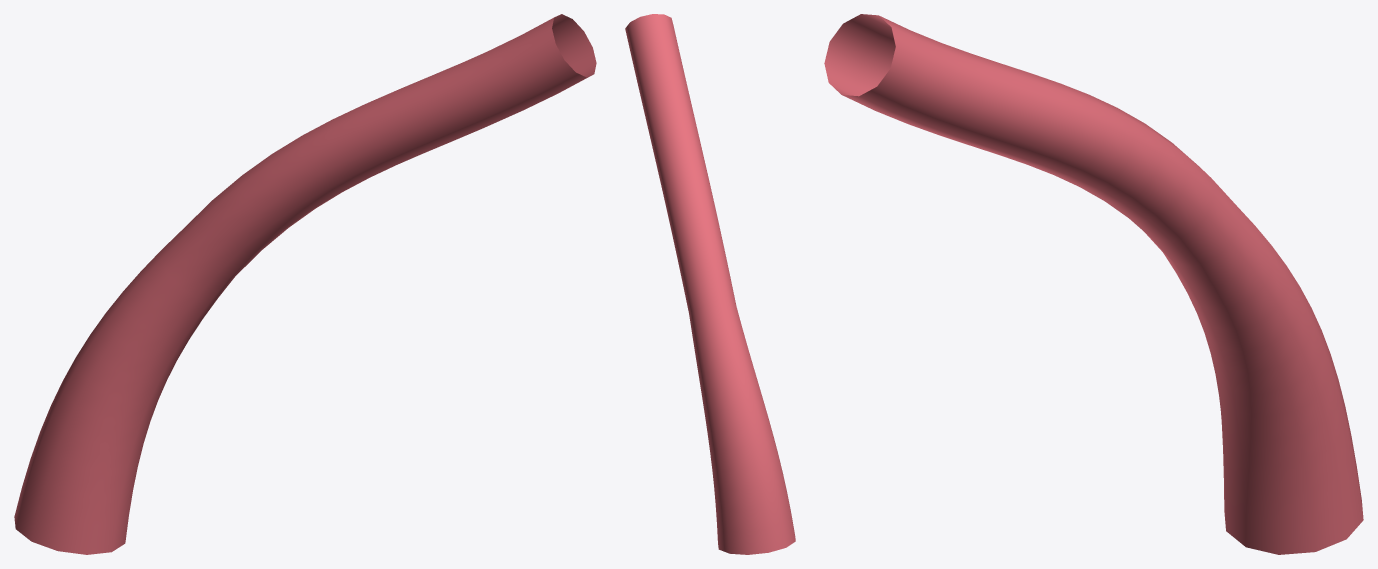
3 renders of one model, left to right at view 1: azimuth 30°, elevation 25°; view 2: azimuth 150°, elevation 25°; view 3: azimuth 270°, elevation 25°, orthographic. The views are drawn at different scales.
Visible parts, largest first — view 1: ZA_9e887c9dd3d0d2ce; view 2: ZA_9e887c9dd3d0d2ce; view 3: ZA_9e887c9dd3d0d2ce.
Boxes of the visible parts, box(x1,y1,x2,y2) form: ZA_9e887c9dd3d0d2ce: box(14, 14, 596, 554); ZA_9e887c9dd3d0d2ce: box(625, 14, 795, 554); ZA_9e887c9dd3d0d2ce: box(824, 14, 1363, 554).
Size of the model in its own units: 0.0105 by 0.0141 by 0.00982.
